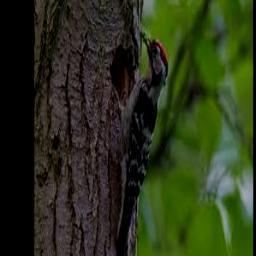Woodpecker: (110, 30, 168, 256)
